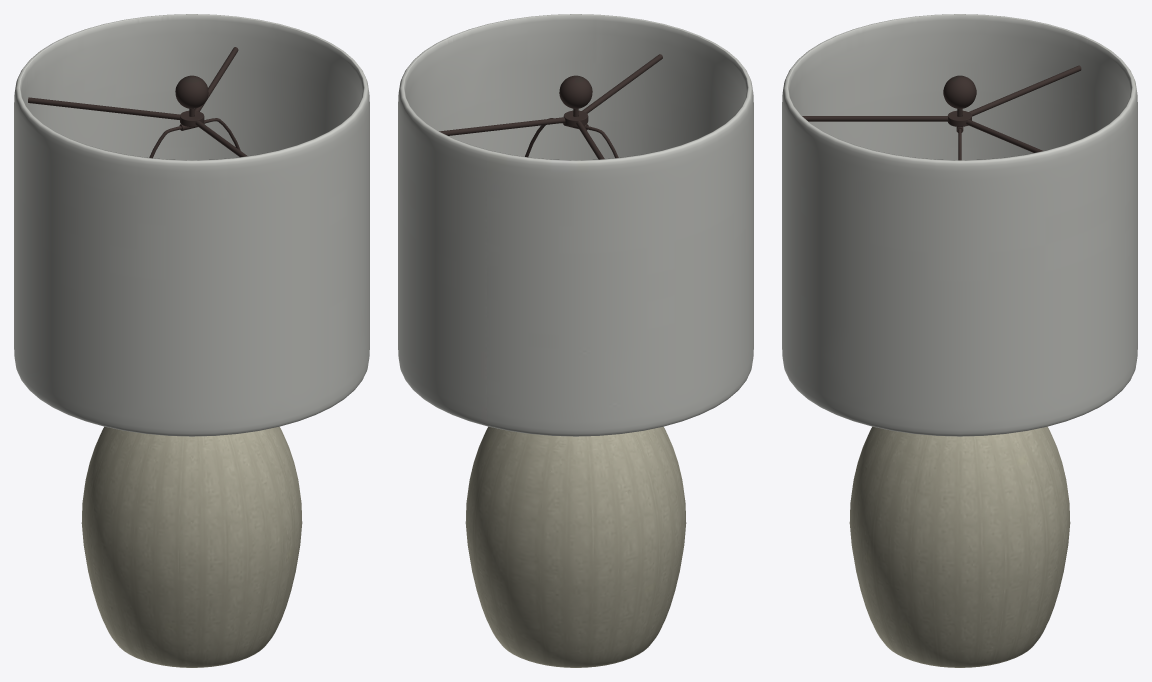
Rendered from abo-B0824FHWSX.glb.
3 renders of one model, left to right at view 1: azimuth 30°, elevation 25°; view 2: azimuth 150°, elevation 25°; view 3: azimuth 270°, elevation 25°, orthographic.
Bounding box in the file's own units: 0.329 × 0.57 × 0.329.
1 material, 1 textured.
